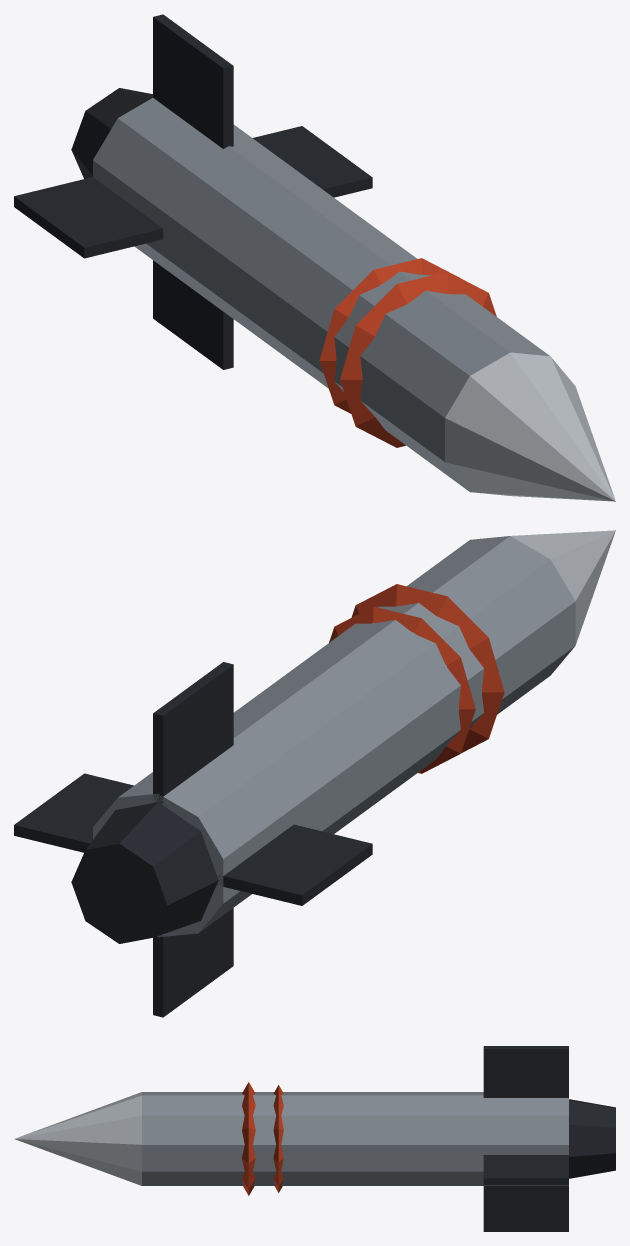
Rendered from missile-incendiary.glb.
3 views of the same model, one above another, from view 1: azimuth 30°, elevation 25°; view 2: azimuth 150°, elevation 25°; view 3: azimuth 270°, elevation 25° (orthographic). The views are drawn at different scales.
Visible parts, largest first — view 1: m; view 2: m; view 3: m.
Part boxes in pixels (left/top/right/bottom): m: left=14, top=14, right=615, bottom=501; m: left=14, top=530, right=615, bottom=1017; m: left=14, top=1046, right=615, bottom=1231.
Bounding box in the file's own units: 0.067 × 0.067 × 0.2.
